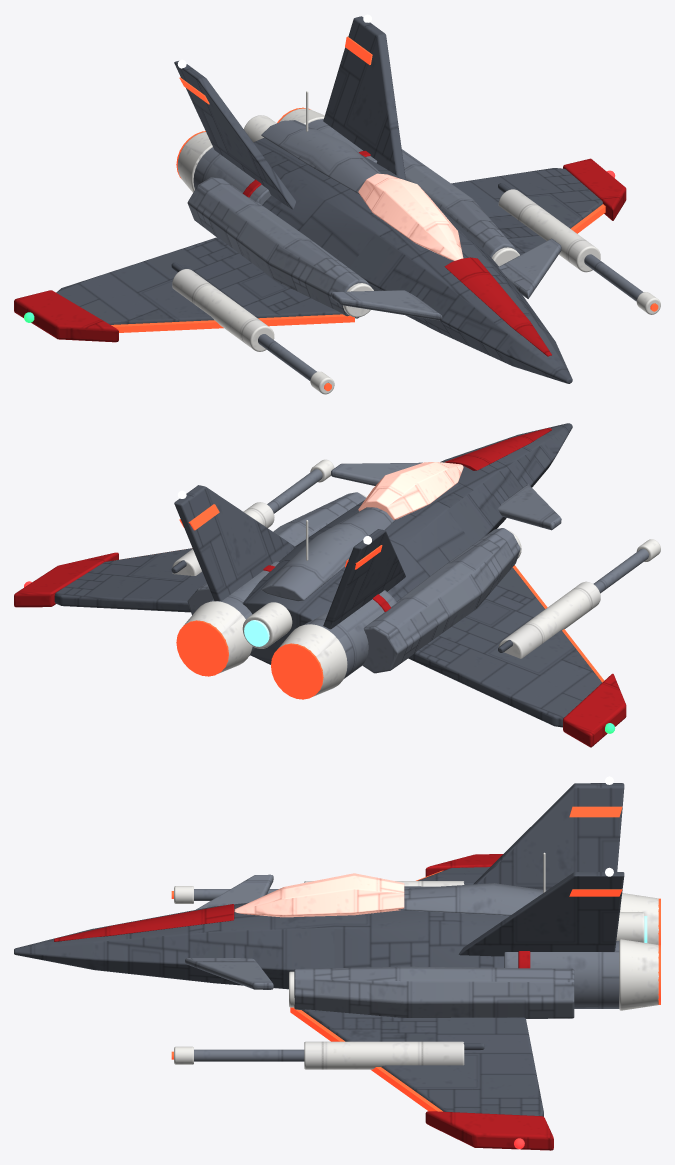
Rendered from spiral_raptor.glb.
The picture shows the model from 3 angles, top to bottom: view 1: azimuth 30°, elevation 25°; view 2: azimuth 150°, elevation 25°; view 3: azimuth 270°, elevation 25°; orthographic projection.
Visible parts, largest first — view 1: Hull, WingL, IntakeL, TailFinR, WingR, Canopy, TailFinL, Spine, IntakeR, WingTipL, CannonBodyL, CannonBodyR (+9 smaller); view 2: Hull, WingL, IntakeL, TailFinR, WingR, Spine, TailFinL, Canopy, CannonBodyL, WingTipL, ExhaustRingR, ExhaustRingL (+14 smaller); view 3: Hull, IntakeR, WingR, TailFinL, TailFinR, Canopy, CannonBodyR, WingTipR, NacelleR, Spine, NozzleR, NoseStripe (+9 smaller).
Boxes of the visible parts, bbox=[...] form: Hull: bbox=[253, 137, 572, 383]; WingL: bbox=[56, 237, 341, 324]; IntakeL: bbox=[187, 177, 369, 318]; TailFinR: bbox=[323, 16, 405, 180]; WingR: bbox=[451, 168, 602, 255]; Canopy: bbox=[358, 173, 463, 260]; TailFinL: bbox=[174, 61, 295, 209]; Spine: bbox=[261, 120, 381, 194]; IntakeR: bbox=[401, 149, 517, 257]; WingTipL: bbox=[14, 290, 118, 342]; CannonBodyL: bbox=[172, 269, 274, 351]; CannonBodyR: bbox=[498, 189, 600, 272]; Hull: bbox=[242, 423, 572, 664]; WingL: bbox=[408, 567, 602, 727]; IntakeL: bbox=[362, 528, 520, 673]; TailFinR: bbox=[174, 485, 295, 601]; WingR: bbox=[54, 548, 206, 612]; Spine: bbox=[261, 507, 395, 601]; TailFinL: bbox=[323, 529, 405, 629]; Canopy: bbox=[358, 462, 463, 519]; CannonBodyL: bbox=[498, 581, 600, 658]; WingTipL: bbox=[563, 673, 626, 747]; ExhaustRingR: bbox=[176, 620, 228, 676]; ExhaustRingL: bbox=[271, 643, 323, 699]; Hull: bbox=[14, 902, 509, 989]; IntakeR: bbox=[294, 966, 574, 1018]; WingR: bbox=[302, 1009, 543, 1116]; TailFinL: bbox=[473, 783, 624, 890]; TailFinR: bbox=[458, 872, 624, 956]; Canopy: bbox=[234, 873, 404, 917]; CannonBodyR: bbox=[304, 1041, 464, 1069]; WingTipR: bbox=[425, 1111, 553, 1150]; NacelleR: bbox=[504, 941, 619, 1008]; Spine: bbox=[398, 883, 546, 915]; NozzleR: bbox=[619, 939, 658, 1010]; NoseStripe: bbox=[54, 904, 234, 941].
Bounding box in the file's own units: 0.687 × 0.2054 × 0.6465.
Materials: 11 (5 with a texture image).
